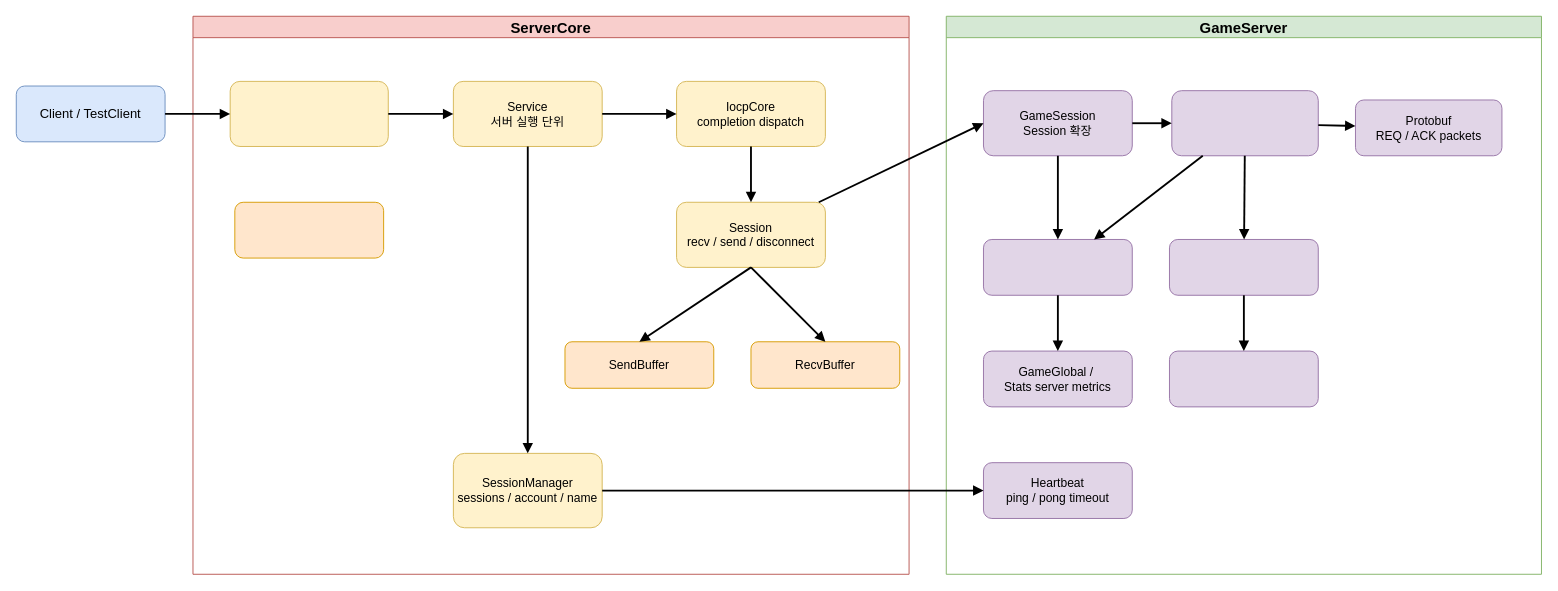
Some shapes in this 1558 by 591 pixel diagram are drawn without their labels. The centre of each missing label's shape, as x and y in pixels:
"Listener accept 처리" goes at (x=308, y=113).
"Login account / logout" goes at (x=1057, y=267).
"Room room users" goes at (x=1243, y=378).
"RoomManager room enter / exit" goes at (x=1243, y=267).
"ServerPacketHandler packet id dispatch" goes at (x=1244, y=123).
"SocketUtils socket option" goes at (x=309, y=229).
